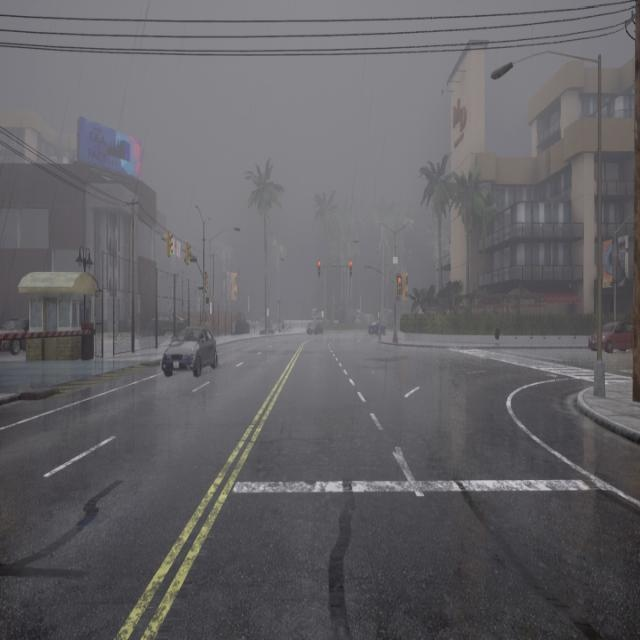bien_chi_dan: (167, 231, 173, 258), (186, 243, 190, 266), (349, 259, 353, 278), (205, 271, 208, 292), (318, 260, 321, 278), (398, 277, 401, 294), (169, 250, 173, 256), (318, 261, 321, 266), (187, 260, 190, 264), (398, 278, 401, 282), (350, 261, 352, 266), (206, 288, 207, 291)
